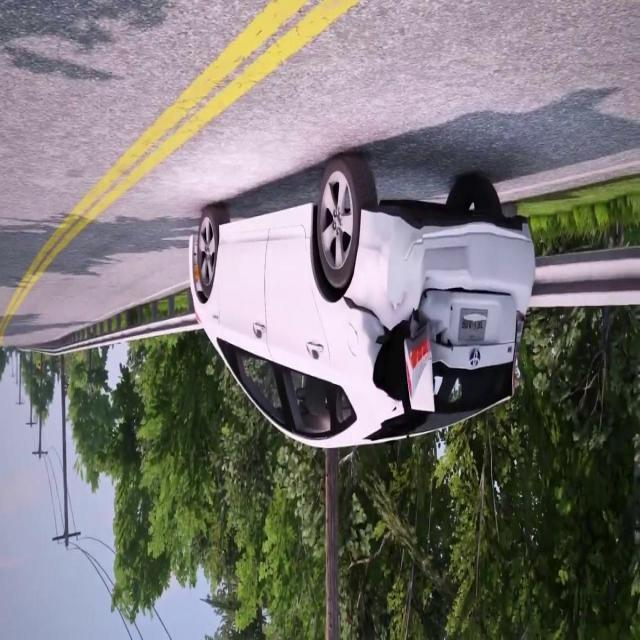vehicle: (166, 138, 590, 508)
